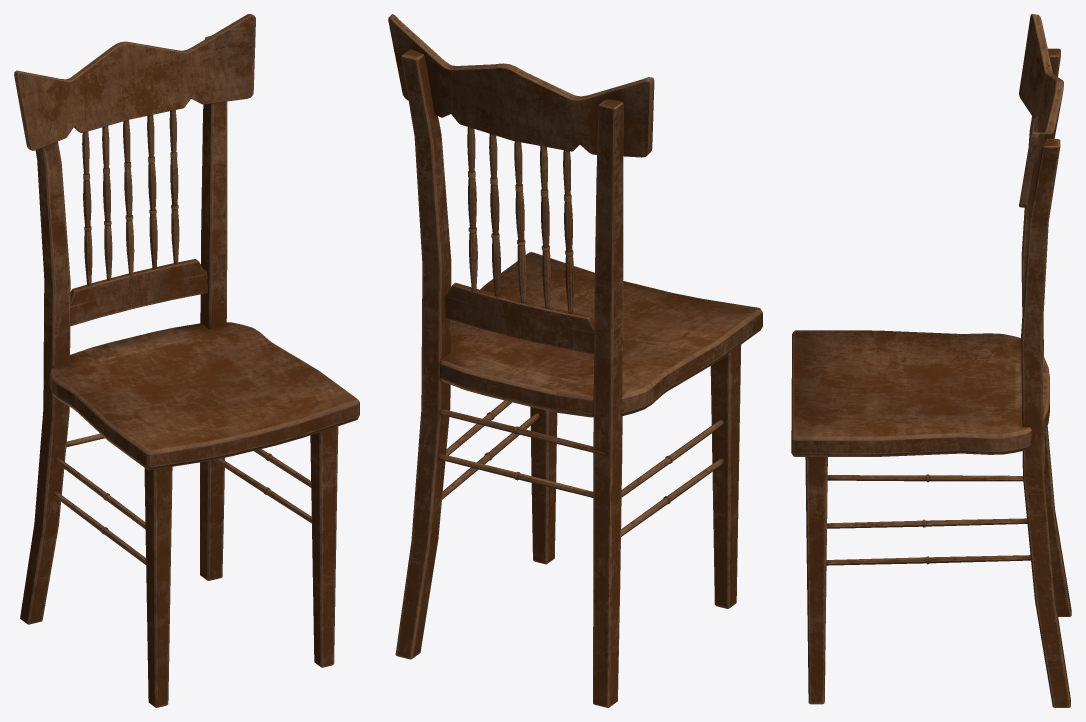
The picture shows the model from 3 angles, left to right: view 1: azimuth 30°, elevation 25°; view 2: azimuth 150°, elevation 25°; view 3: azimuth 270°, elevation 25°; orthographic projection. The views are drawn at different scales.
Parts seen in each view (by area): view 1: chaise; view 2: chaise; view 3: chaise.
Part boxes in pixels (x1,y1,x2,y2): chaise: [14, 14, 359, 707]; chaise: [388, 14, 762, 707]; chaise: [791, 14, 1071, 707].
Size of the model in its own units: 0.8851 by 2 by 0.8669.
Materials: 1 (1 with a texture image).
